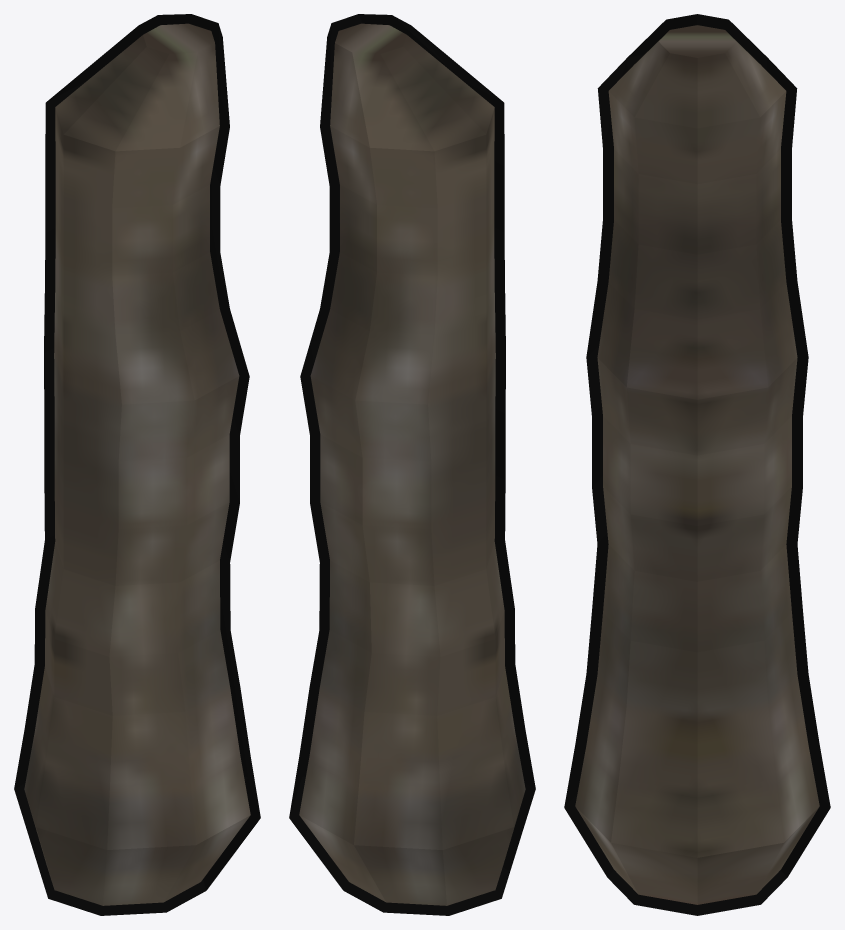
The model's file is Plant_BurnedTree_Things_Plant_BurnedTree_BurnedTreeB.glb.
3 renders of one model, left to right at view 1: azimuth 30°, elevation 25°; view 2: azimuth 150°, elevation 25°; view 3: azimuth 270°, elevation 25°, orthographic. The views are drawn at different scales.
Visible parts, largest first — view 1: Body, Outline; view 2: Body, Outline; view 3: Body, Outline.
Boxes of the visible parts, x1,y1,x2,y2 form: Body: (24,23,250,905); Outline: (14,14,260,915); Body: (299,23,525,905); Outline: (289,14,535,915); Body: (575,25,819,904); Outline: (564,14,830,915).
Size of the model in its own units: 0.1873 by 0.6797 by 0.1873.
2 materials, 1 textured.
